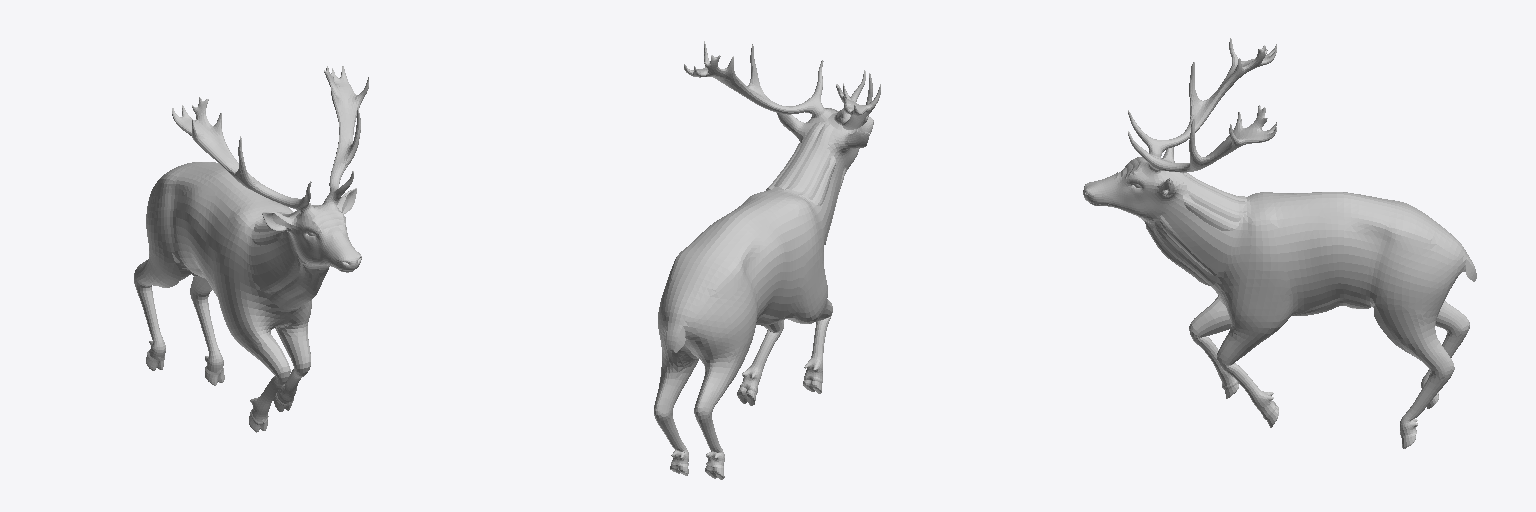
The model's file is frame_0016_uv.obj.
The picture shows the model from 3 angles: view 1: azimuth 30°, elevation 25°; view 2: azimuth 150°, elevation 25°; view 3: azimuth 270°, elevation 25°; orthographic projection.
Visible parts, largest first — view 1: pMesh1; view 2: pMesh1; view 3: pMesh1.
Part boxes in pixels (left/top/right/bottom): pMesh1: left=134, top=66, right=368, bottom=432; pMesh1: left=654, top=41, right=880, bottom=479; pMesh1: left=1083, top=38, right=1476, bottom=448.
Size of the model in its own units: 1.05 by 2.03 by 2.02.